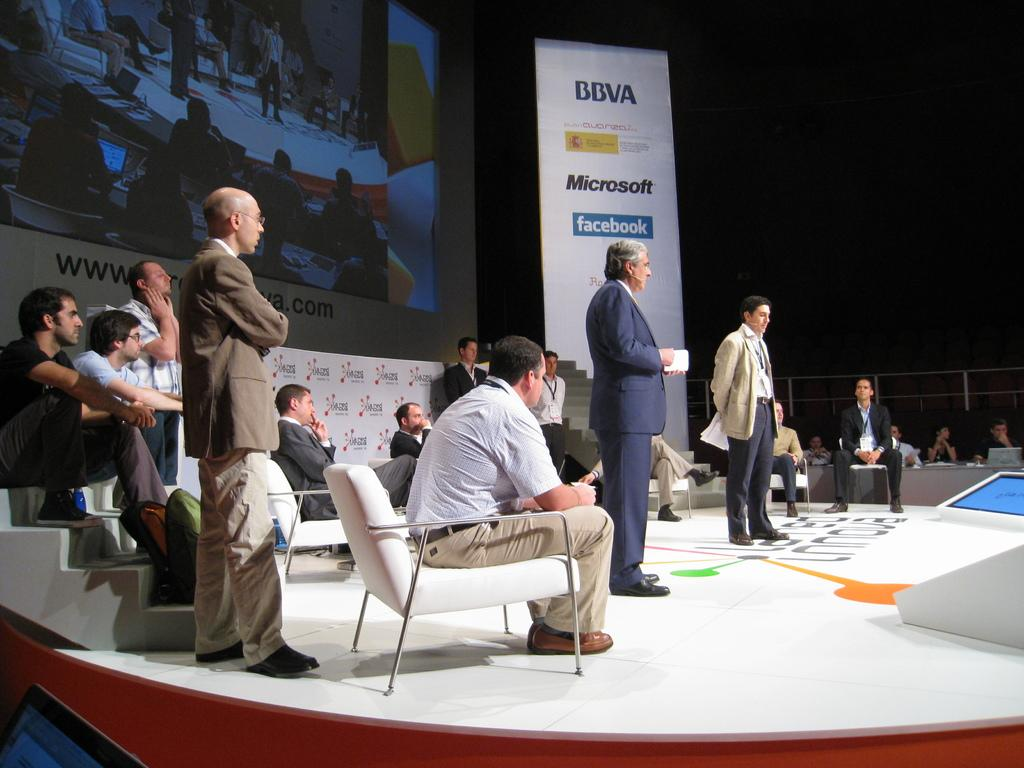Chair: (315, 474, 611, 689), (247, 452, 408, 582), (835, 437, 892, 509), (763, 454, 809, 509), (646, 470, 692, 512), (367, 455, 394, 472)
